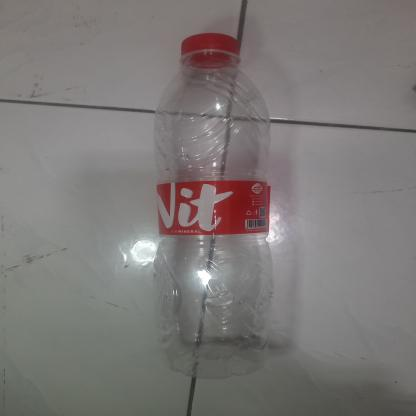plastic: (148, 29, 292, 381)
